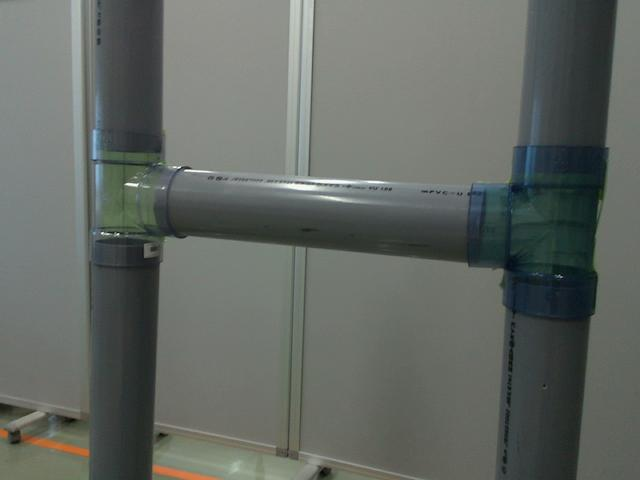junction: (465, 152, 608, 305), (85, 130, 192, 275)
